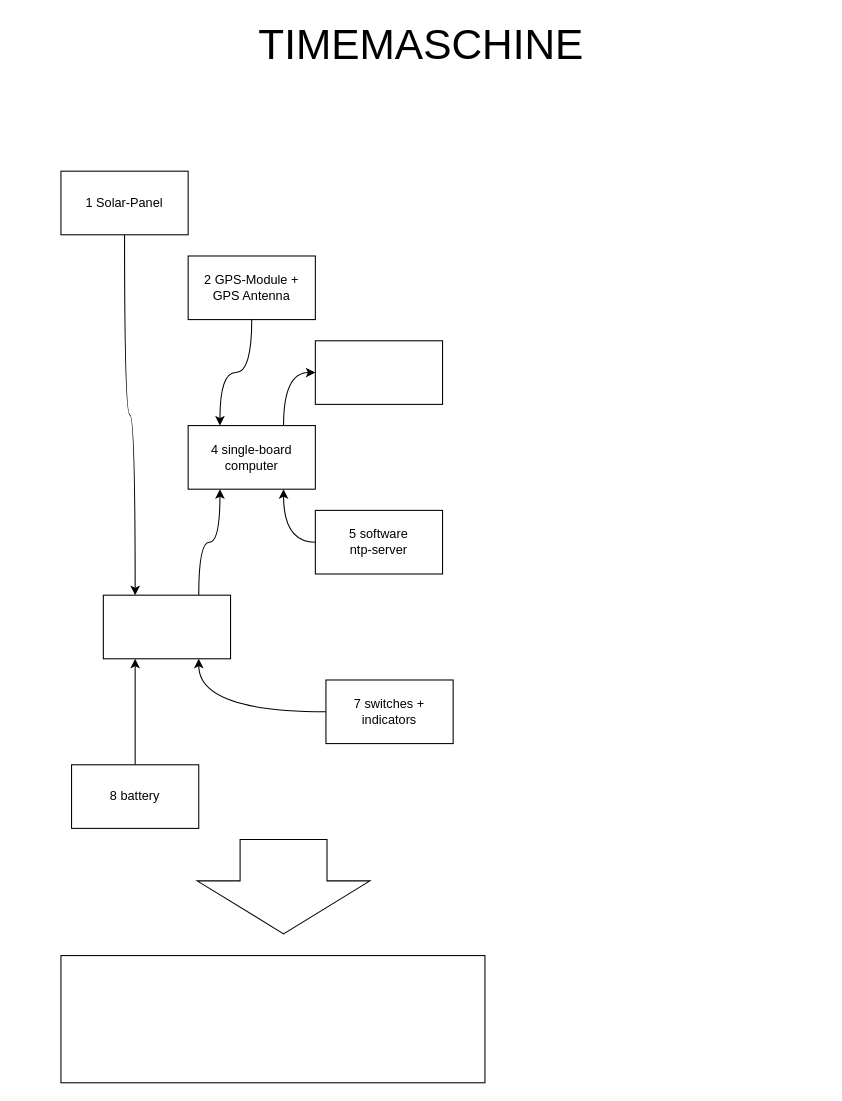
This 842x1101 diagram has some shape labels left out. The centre of each missing label's shape, as x and y in pixels:
"3 WIFI-antenna" goes at point 378,372.
"6 pcb" goes at point 166,626.
"9 Eurobox 600 x 400 mm" goes at point 272,1019.
